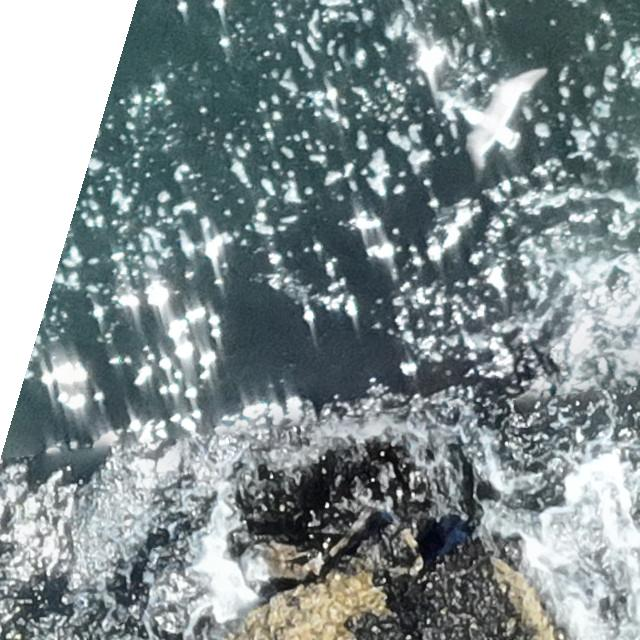F: (462, 74, 538, 156)
